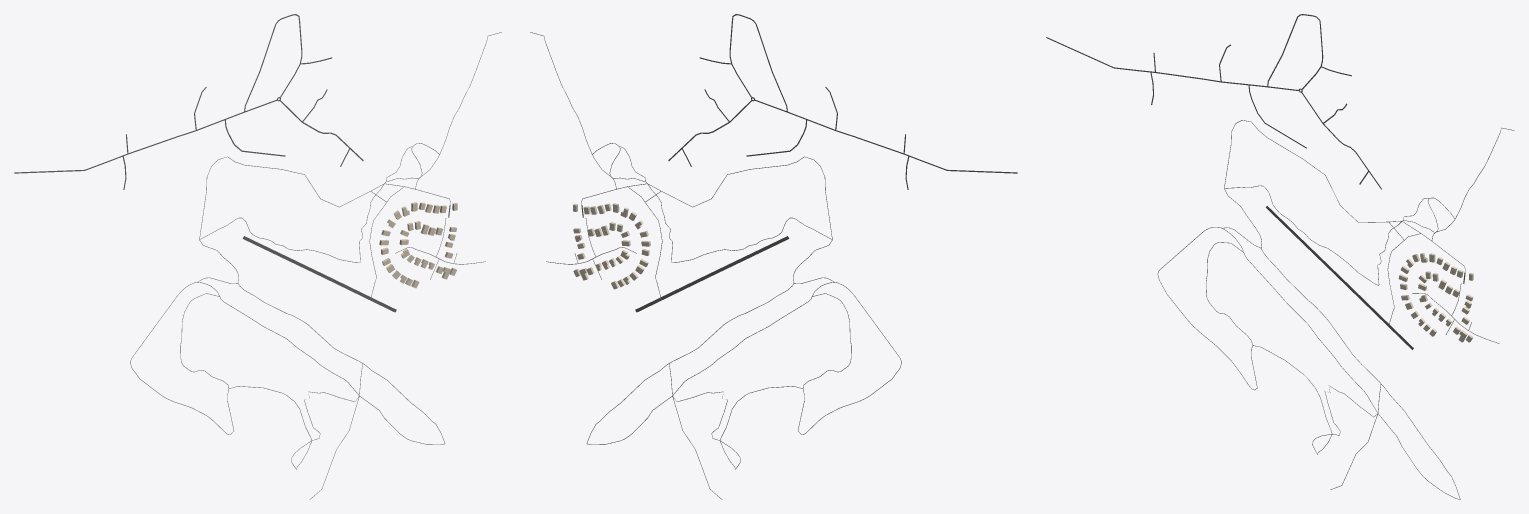
Rendered from historic-palestine-10_33_3523_3272.glb.
The picture shows the model from 3 angles, left to right: view 1: azimuth 30°, elevation 25°; view 2: azimuth 150°, elevation 25°; view 3: azimuth 330°, elevation 25°; orthographic projection. The views are drawn at different scales.
Parts seen in each view (by area): view 1: Road 7625; view 2: Road 7625; view 3: Road 7625.
Part boxes in pixels (x1,y1,x2,y2): Road 7625: (242,236,396,312); Road 7625: (635,236,789,312); Road 7625: (1266,206,1413,349).
Bounding box in the file's own units: 1354 × 1300 × 8.7.
